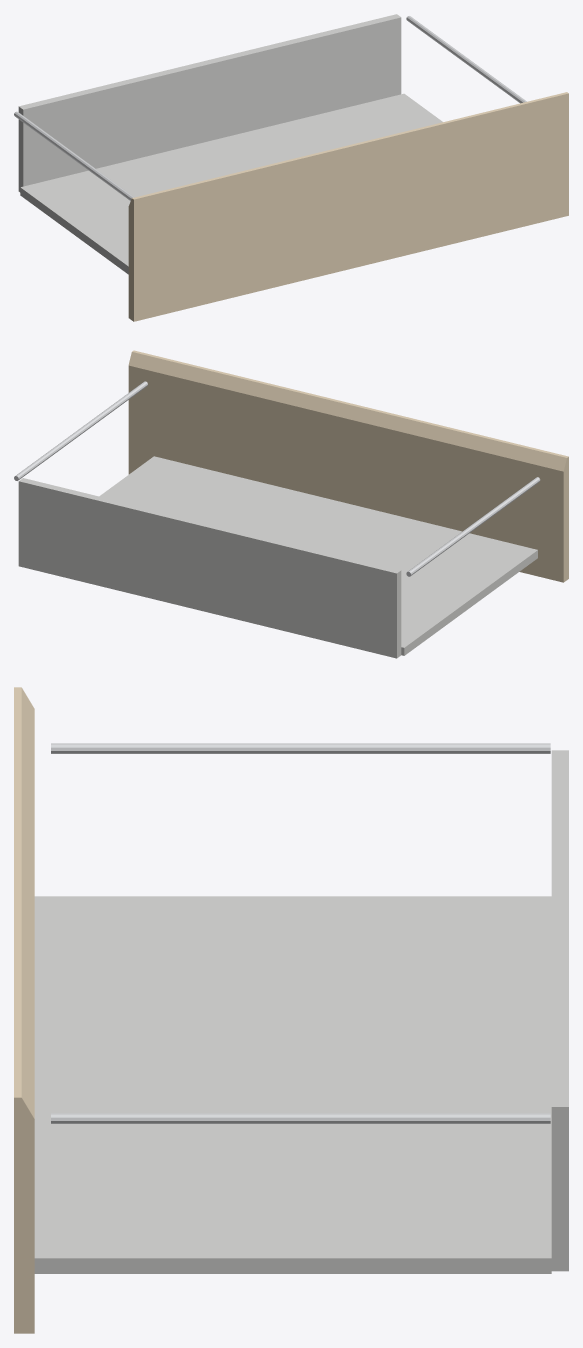
File: skuff_N3_1.glb
3 views of the same model, one above another, from view 1: azimuth 30°, elevation 25°; view 2: azimuth 150°, elevation 25°; view 3: azimuth 270°, elevation 25° (orthographic). The views are drawn at different scales.
Bounding box in the file's own units: 894 × 240 × 511.
